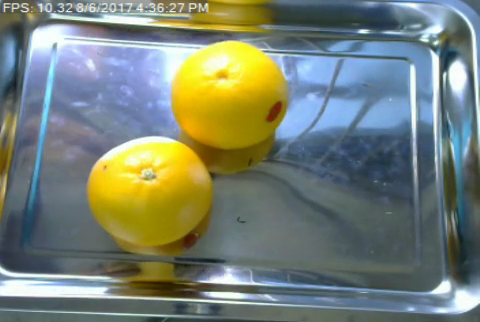Orange: (88, 133, 213, 245), (171, 38, 291, 149)
